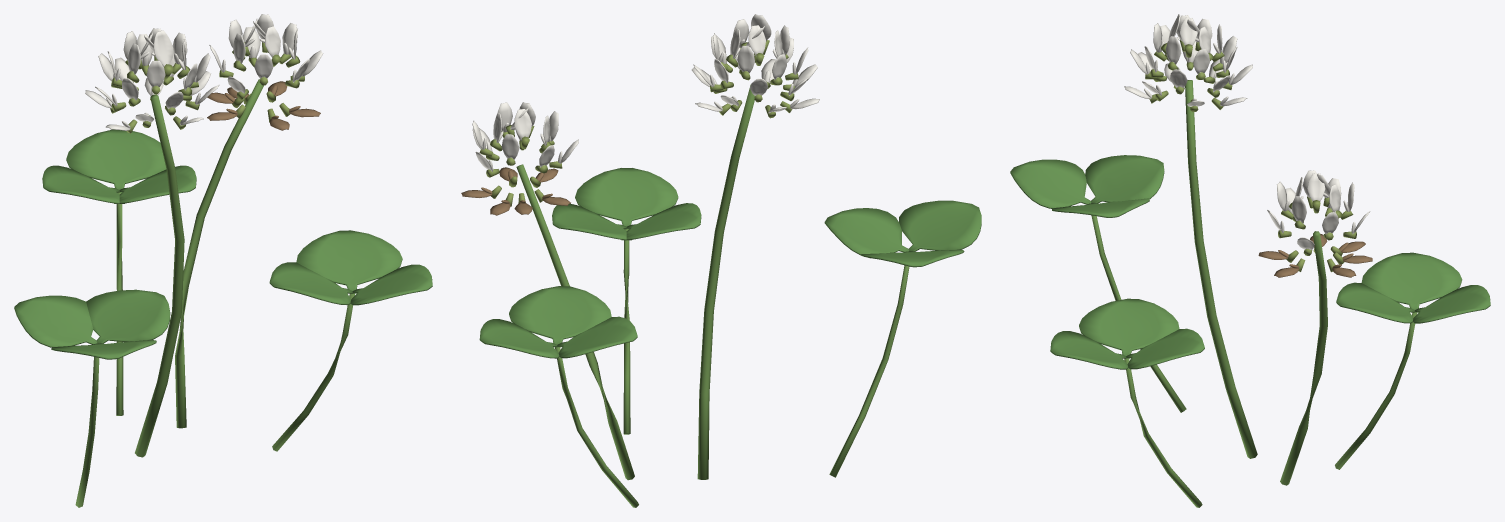
File: flower-trifolium-low.glb
The picture shows the model from 3 angles, left to right: view 1: azimuth 30°, elevation 25°; view 2: azimuth 150°, elevation 25°; view 3: azimuth 270°, elevation 25°; orthographic projection. The views are drawn at different scales.
Visible parts, largest first — view 1: leaves, stalks, head_florets, old_head_florets, hero_petals; view 2: leaves, stalks, head_florets, old_head_florets; view 3: leaves, stalks, head_florets, old_head_florets.
Boxes of the visible parts, x1,y1,x2,y2 form: leaves: (14,129,432,507); stalks: (135,79,263,457); head_florets: (85,28,219,133); old_head_florets: (207,14,323,130); hero_petals: (153,30,173,66); leaves: (479,168,981,507); stalks: (516,84,754,480); head_florets: (691,19,819,118); old_head_florets: (461,102,578,215); leaves: (1010,155,1490,507); stalks: (1185,80,1327,485); head_florets: (1124,15,1252,112); old_head_florets: (1258,170,1372,277).
Bounding box in the file's own units: 8.18 × 8.99 × 9.04.
